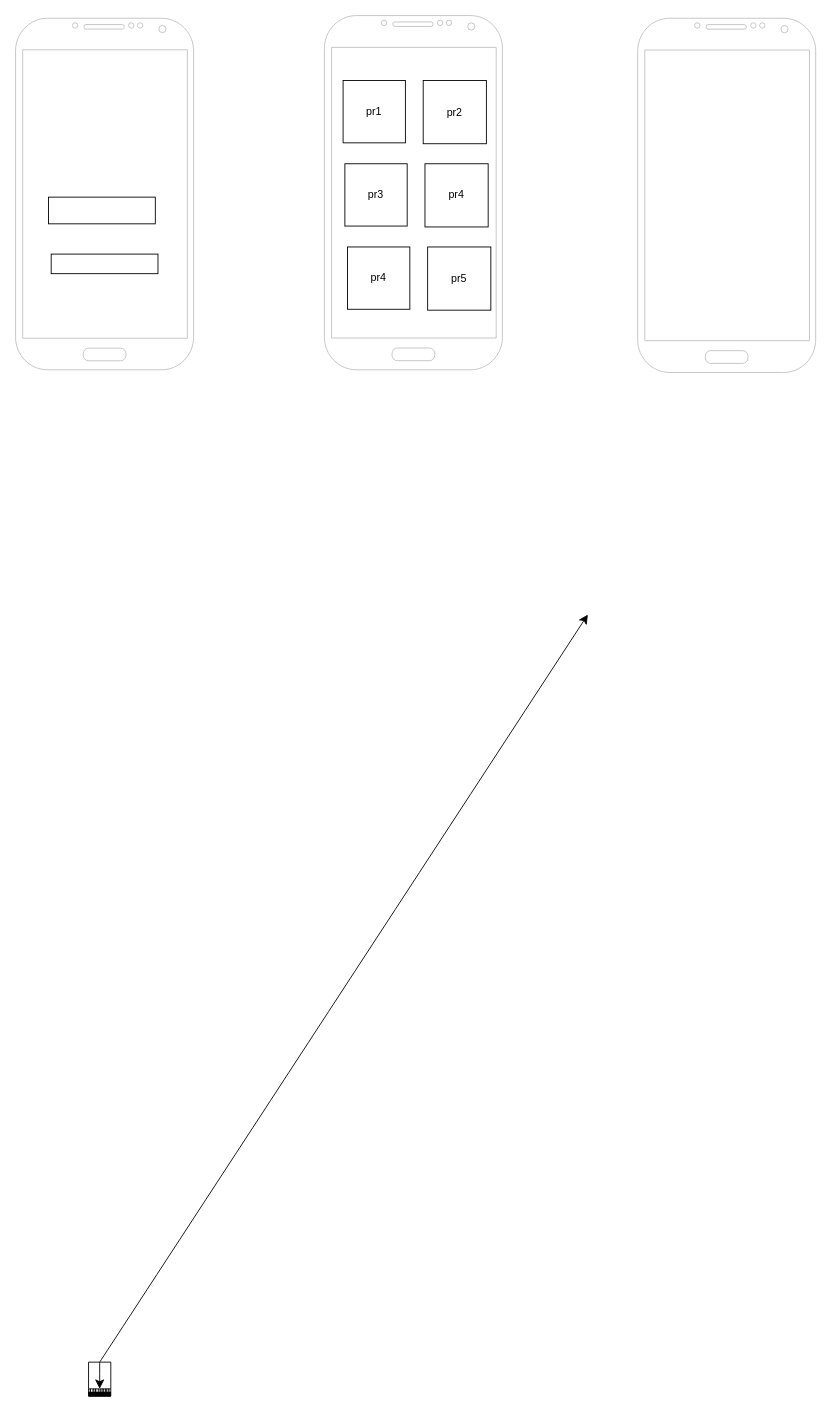
This 831x1412 diagram has some shape labels left out. The centre of each missing label's shape, as x and y in pixels:
"password" goes at [104,263].
"Table" goes at [99,1378].
"user name" goes at [101,210].
